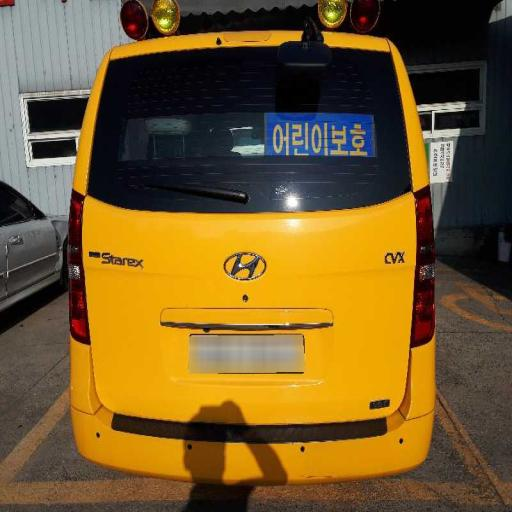normal: (62, 36, 429, 482)
